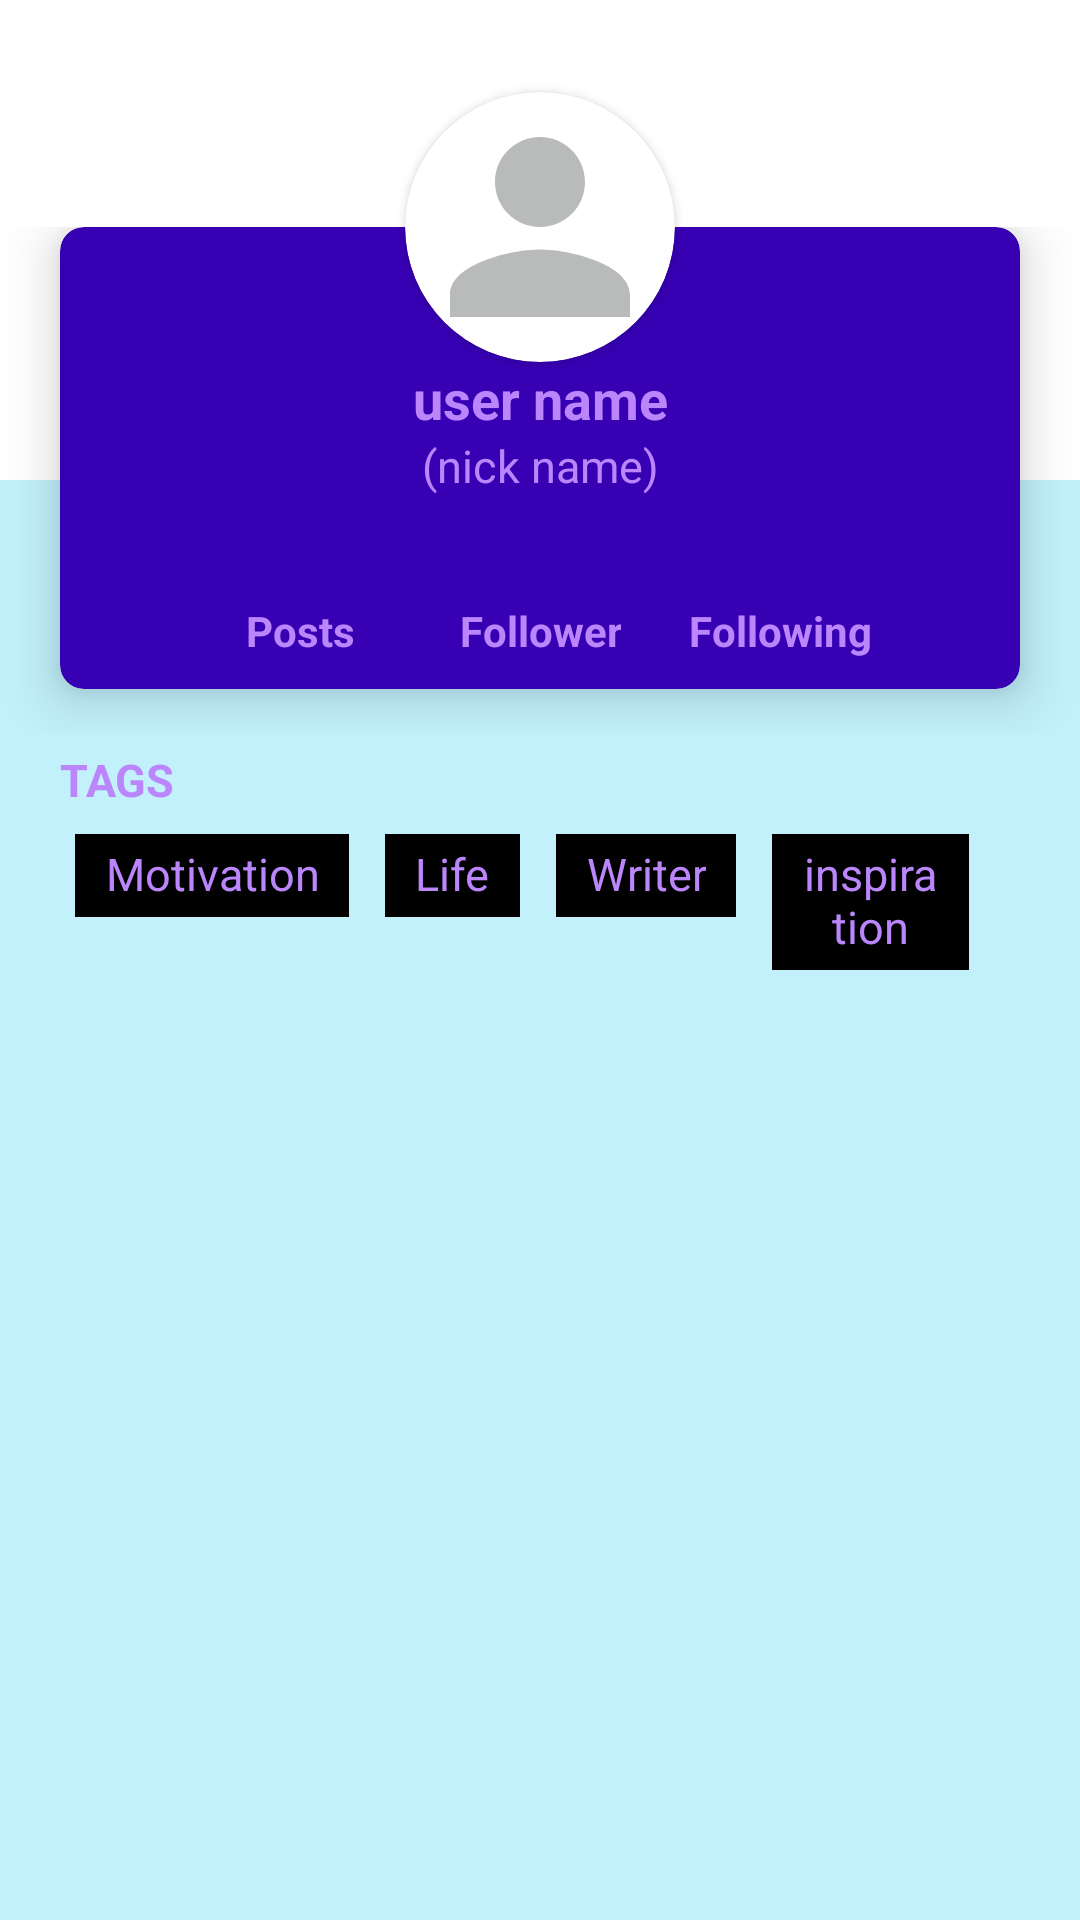

Point at icon controls on the screen. Image size 1080 × 1920, points as (x=x, y=y).
person: (x=540, y=227)
